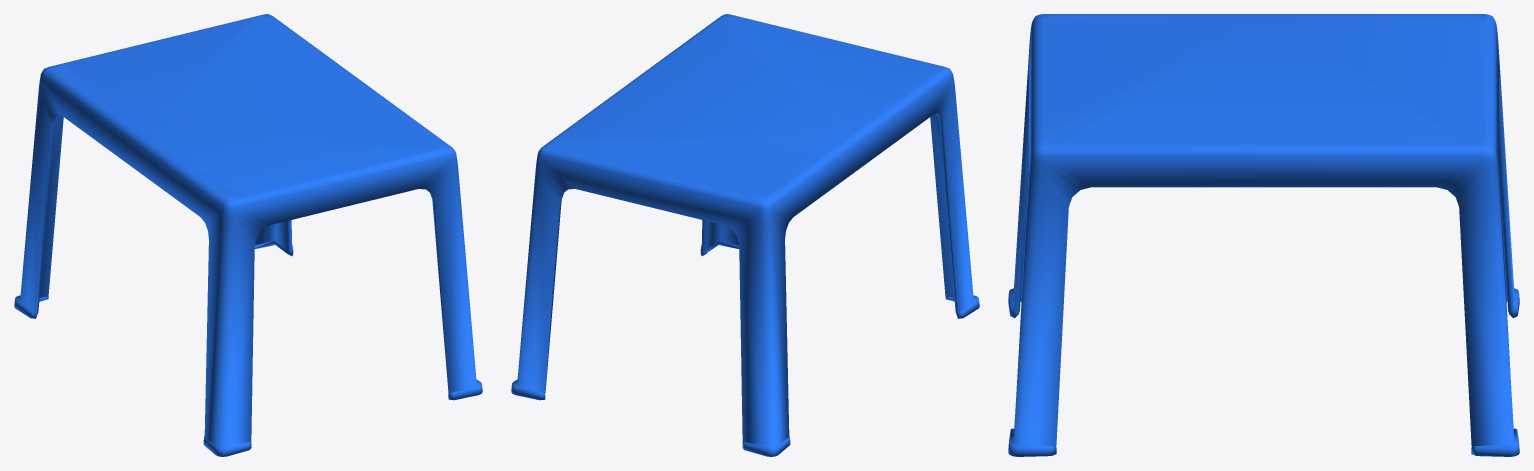
File: blue_table.fbx
3 renders of one model, left to right at view 1: azimuth 30°, elevation 25°; view 2: azimuth 150°, elevation 25°; view 3: azimuth 270°, elevation 25°, orthographic. The views are drawn at different scales.
Visible parts, largest first — view 1: Blue Table; view 2: Blue Table; view 3: Blue Table.
Boxes of the visible parts, x1,y1,x2,y2 form: Blue Table: [14, 14, 482, 456]; Blue Table: [511, 14, 979, 456]; Blue Table: [1008, 14, 1519, 456].
Bounding box in the file's own units: 121 × 106 × 164.
